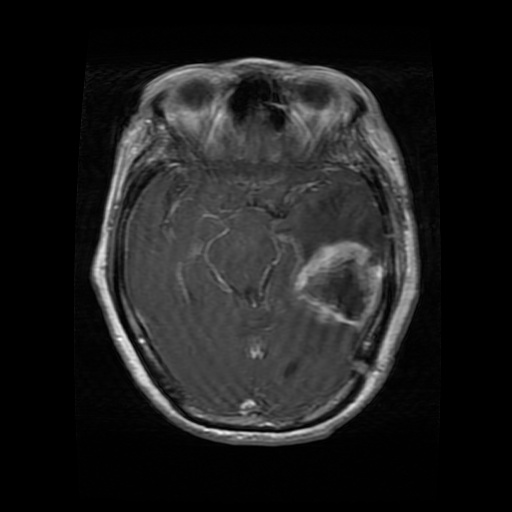glioma: (293, 235, 385, 328)
